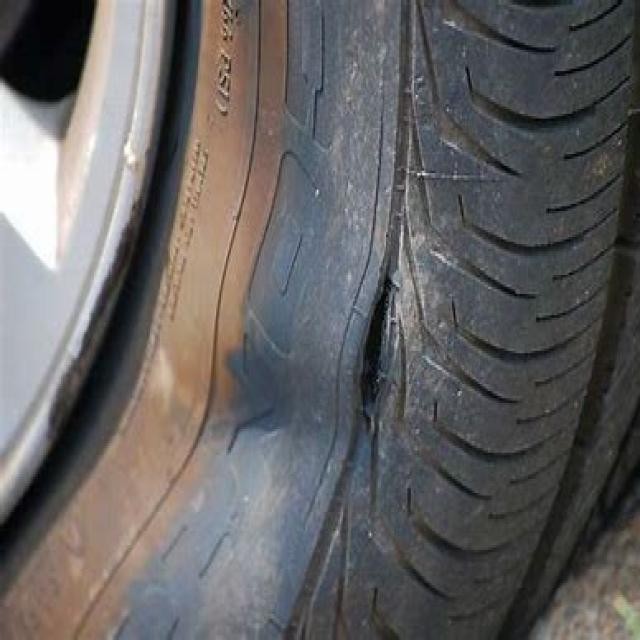Bulge: (154, 188, 361, 440)
